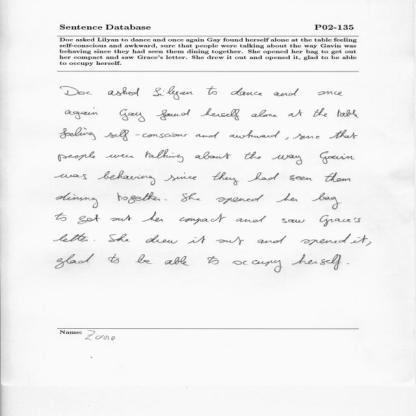Handwritten text: (47, 122, 367, 146), (48, 228, 371, 249), (57, 79, 348, 102), (50, 187, 351, 209), (51, 208, 382, 228), (52, 251, 346, 273), (63, 103, 366, 124), (50, 147, 361, 167), (53, 168, 353, 188)
